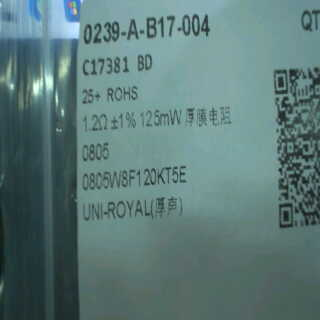1.2R: (81, 115, 111, 166)
